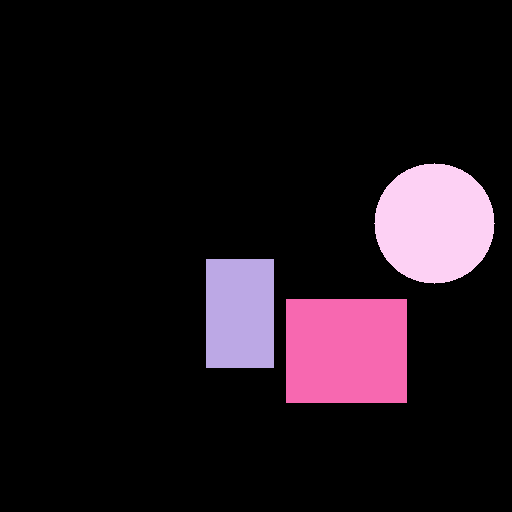circle: (374, 163, 494, 283)
rectangle: (286, 299, 406, 402), (206, 259, 273, 367)
